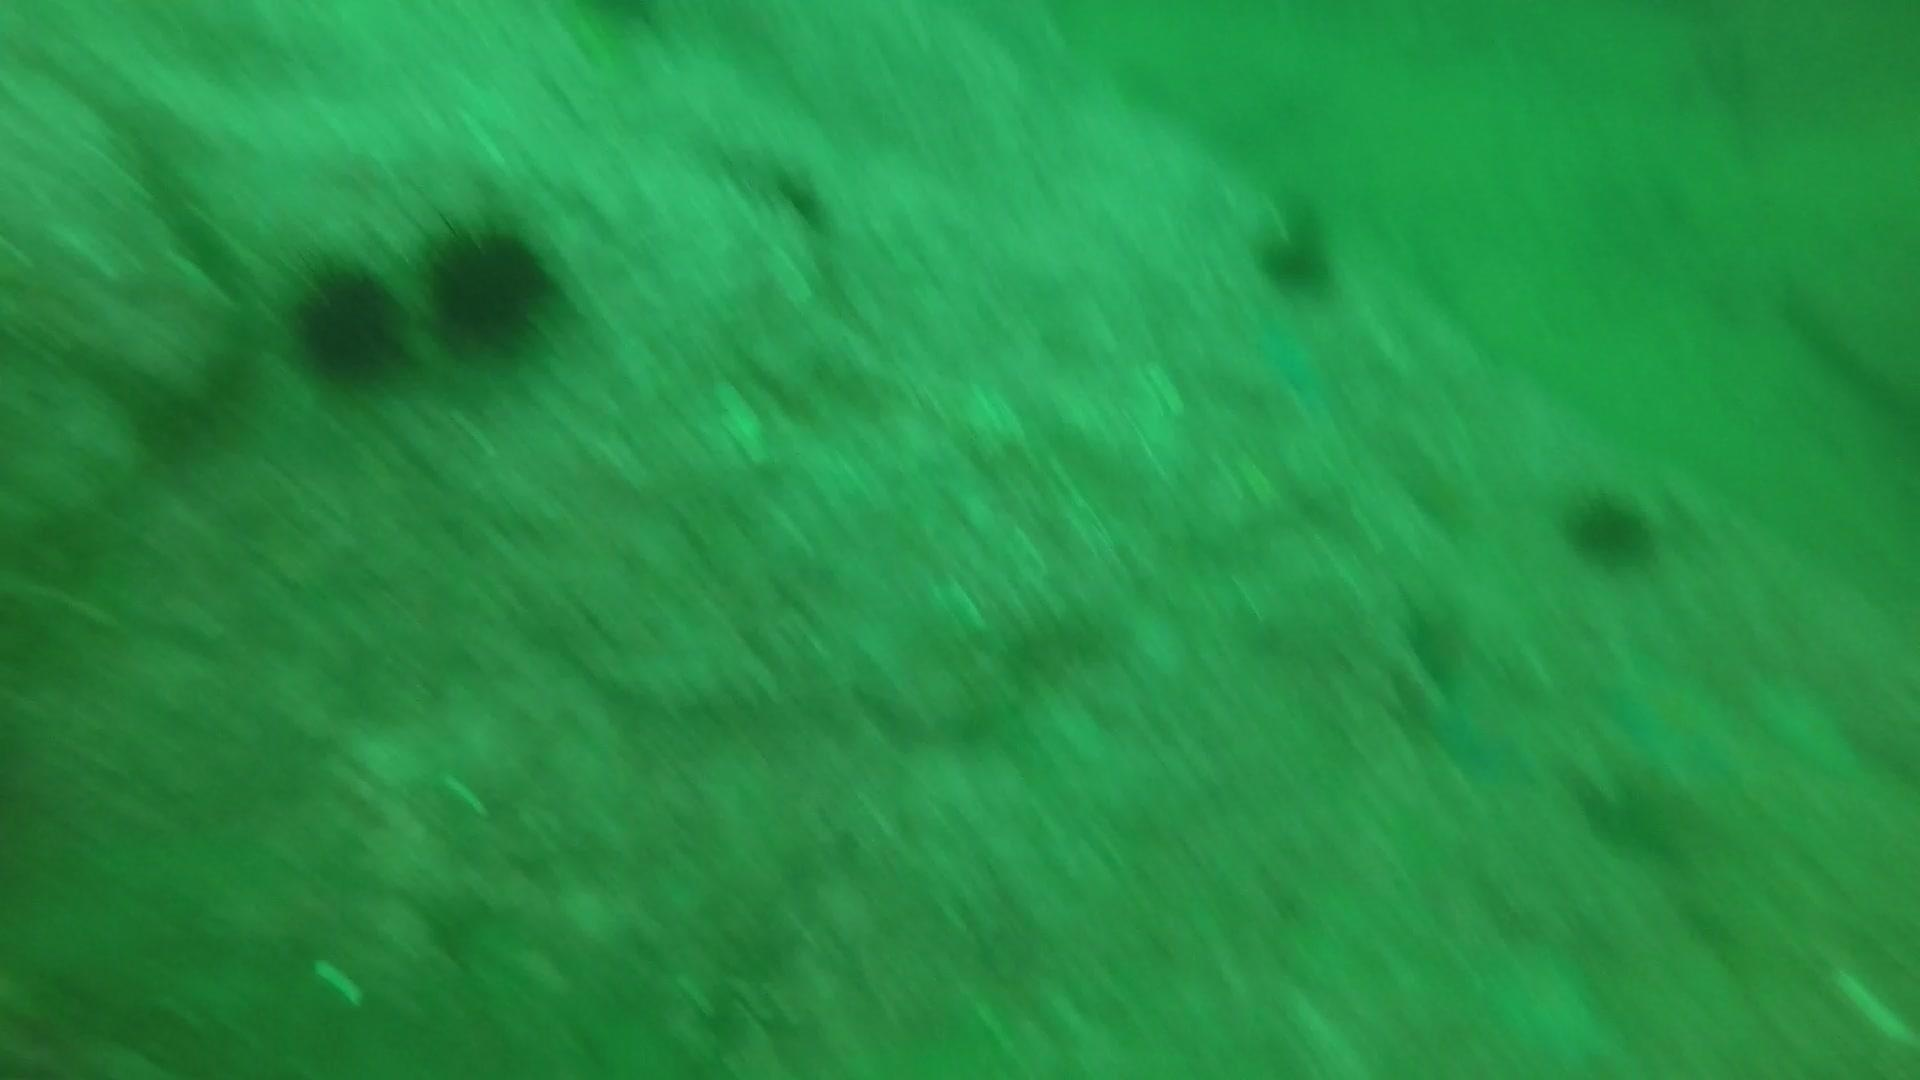echinus: (415, 208, 564, 356), (286, 256, 413, 388), (1557, 483, 1660, 571), (1250, 208, 1341, 299)
starfish: (1598, 651, 1747, 793), (1420, 669, 1549, 793), (1244, 315, 1342, 423)
